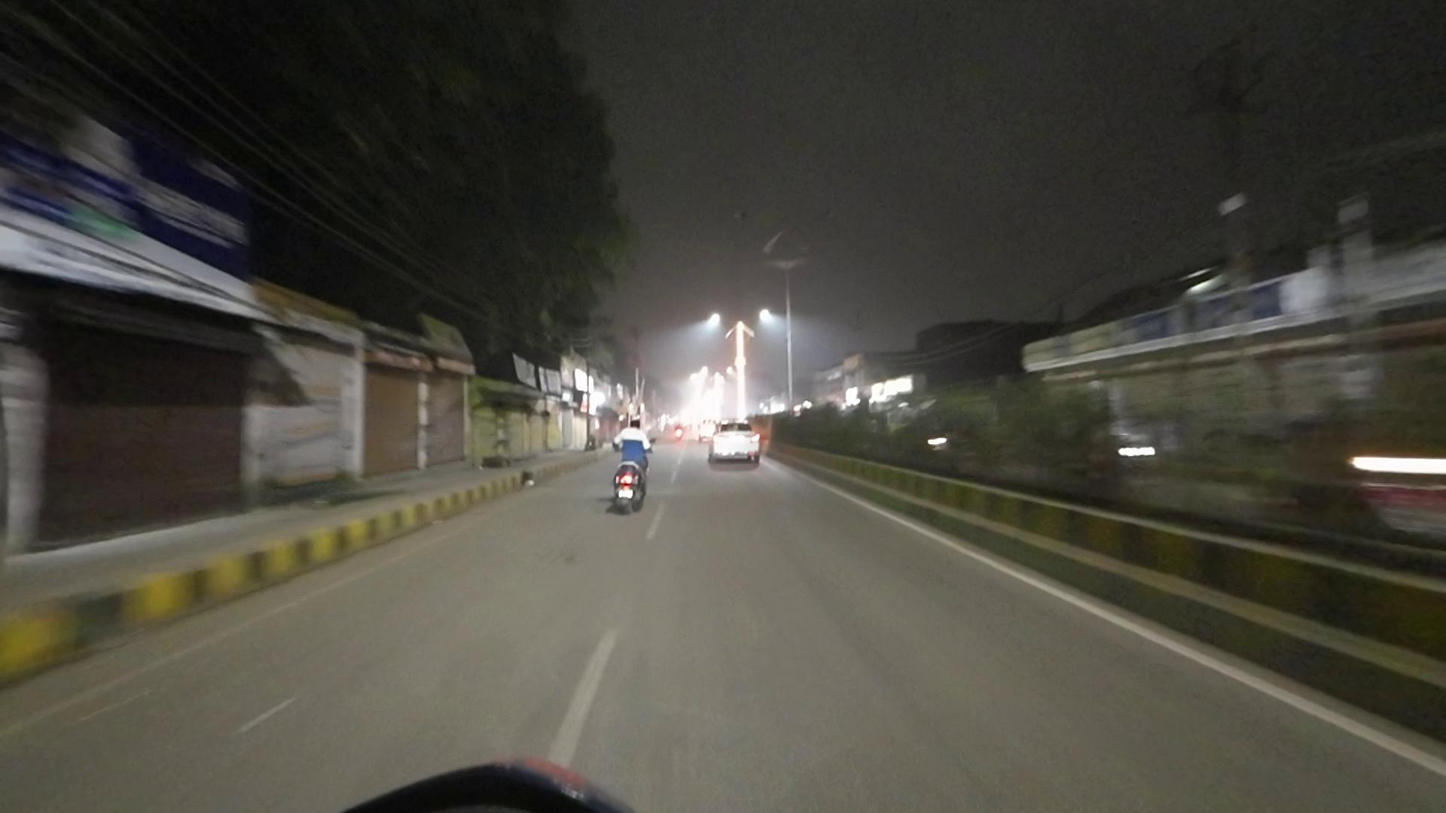streetlight: (732, 205, 782, 226), (788, 206, 836, 223)
